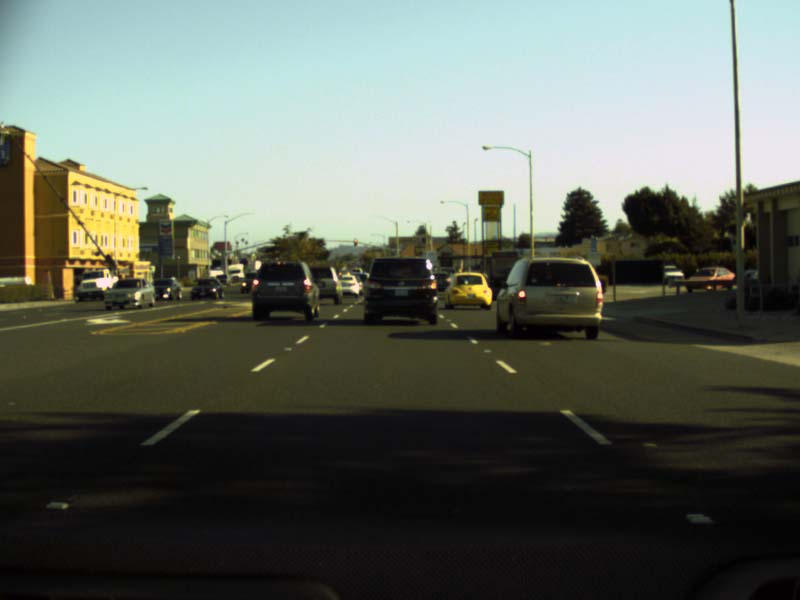Red: (353, 238, 357, 246)
